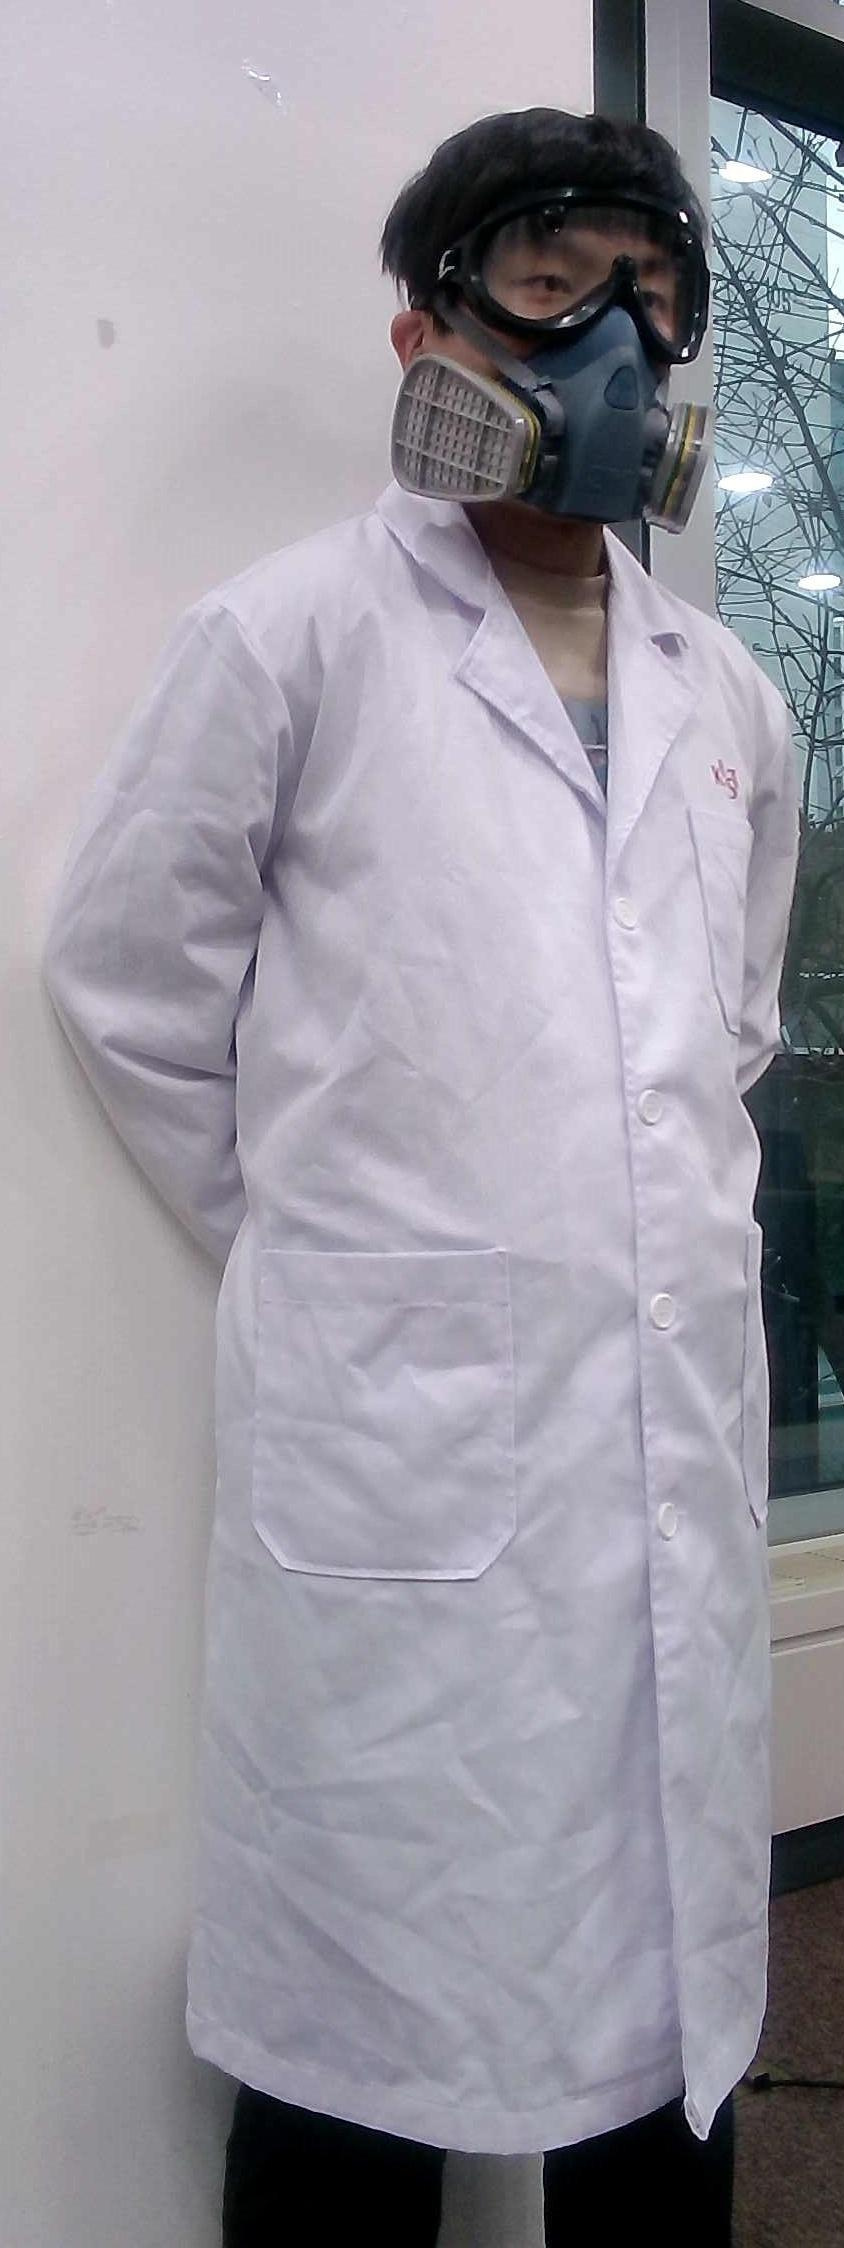lab_coat: (52, 561, 823, 2126)
